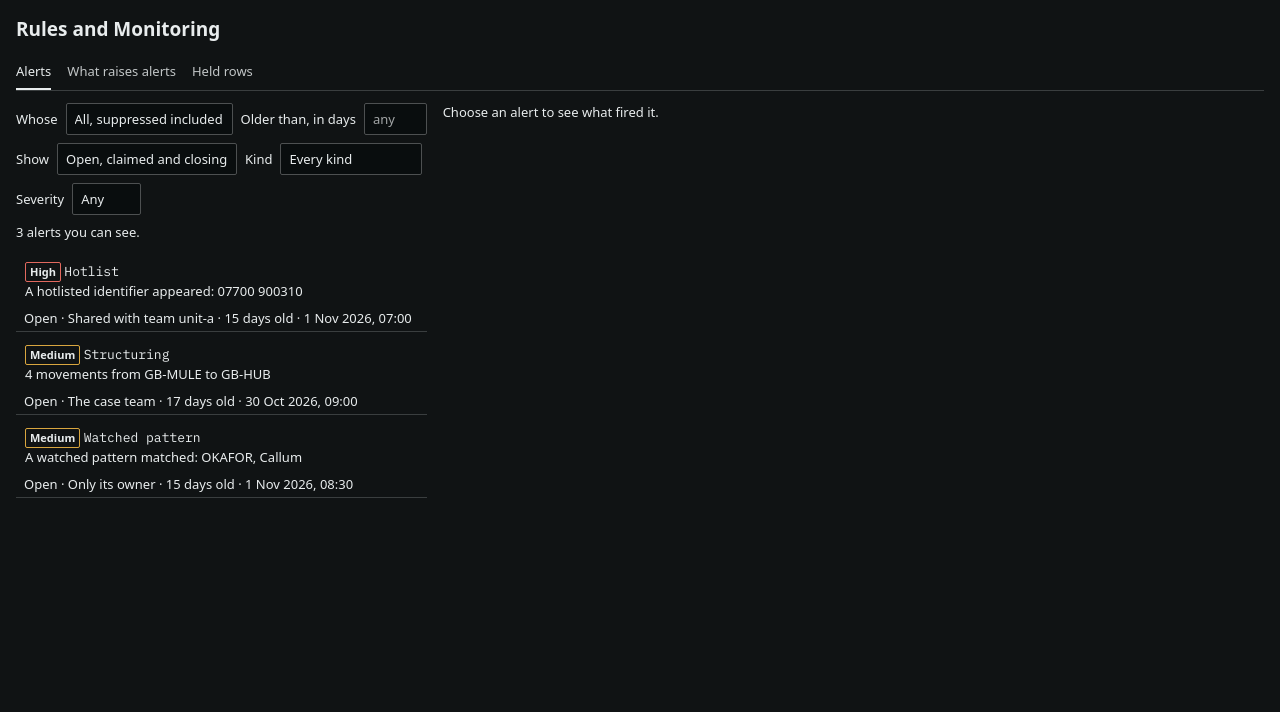
Scenario: Rules and Monitoring › gives a case alert to a member, by name, and a shared one only to be claimed
This screenshot has width=1280, height=712.
Click the button "Medium Structuring4 movements from GB-MULE to GB-HUB" at (221, 364), box 16,336 -> 427,392
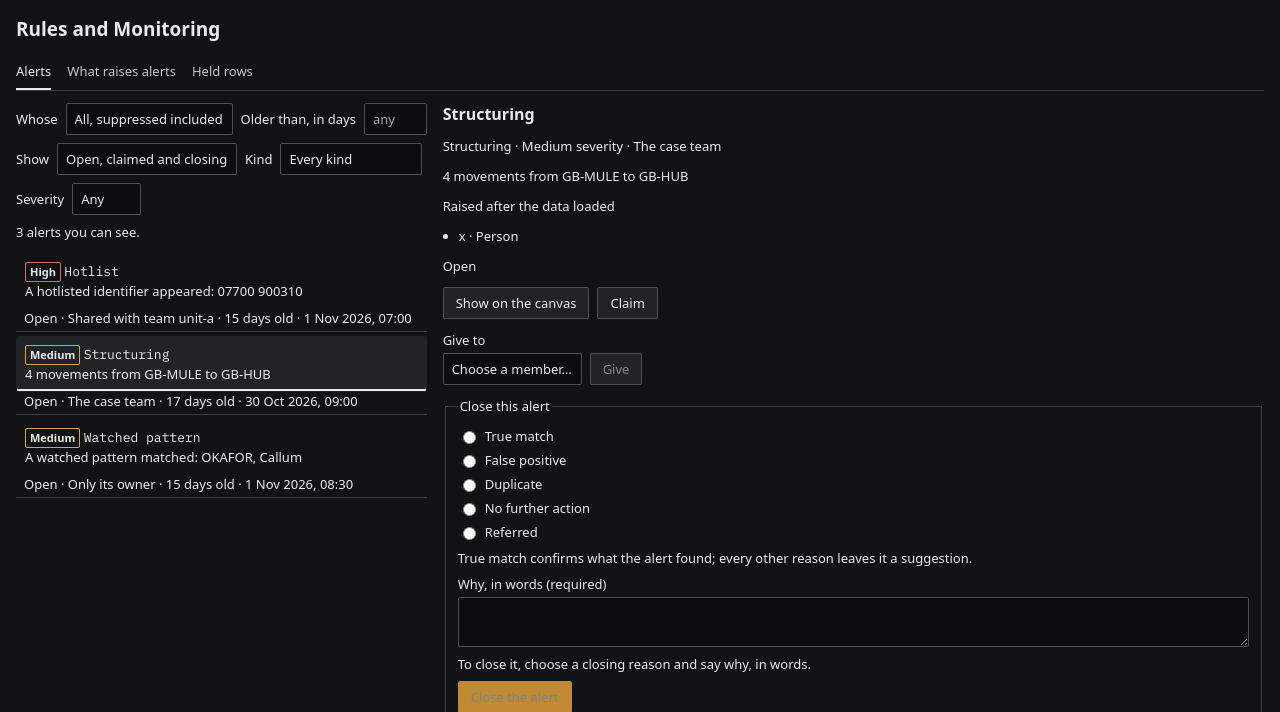
Select "Priya Shah" in the dropdown named "Give to (a member of the case)" at (512, 369), box 443,353 -> 582,385
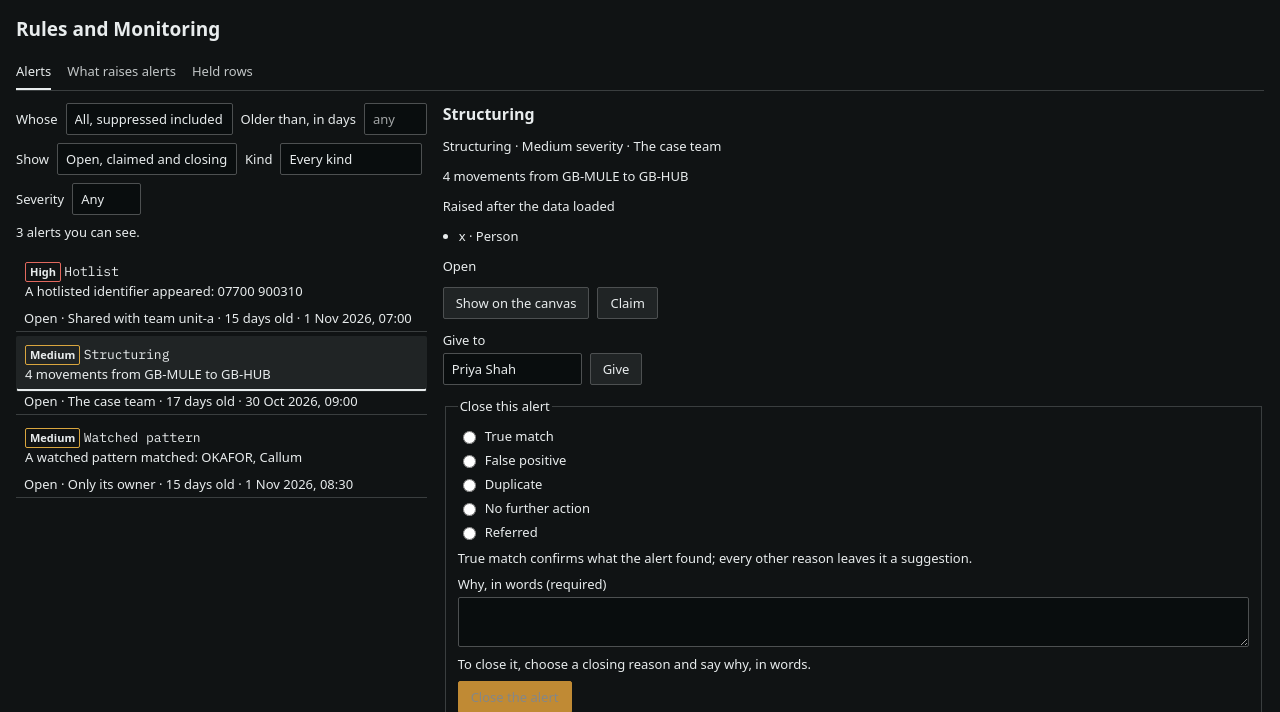
Click the button "Give" at (616, 369), box 590,353 -> 642,385
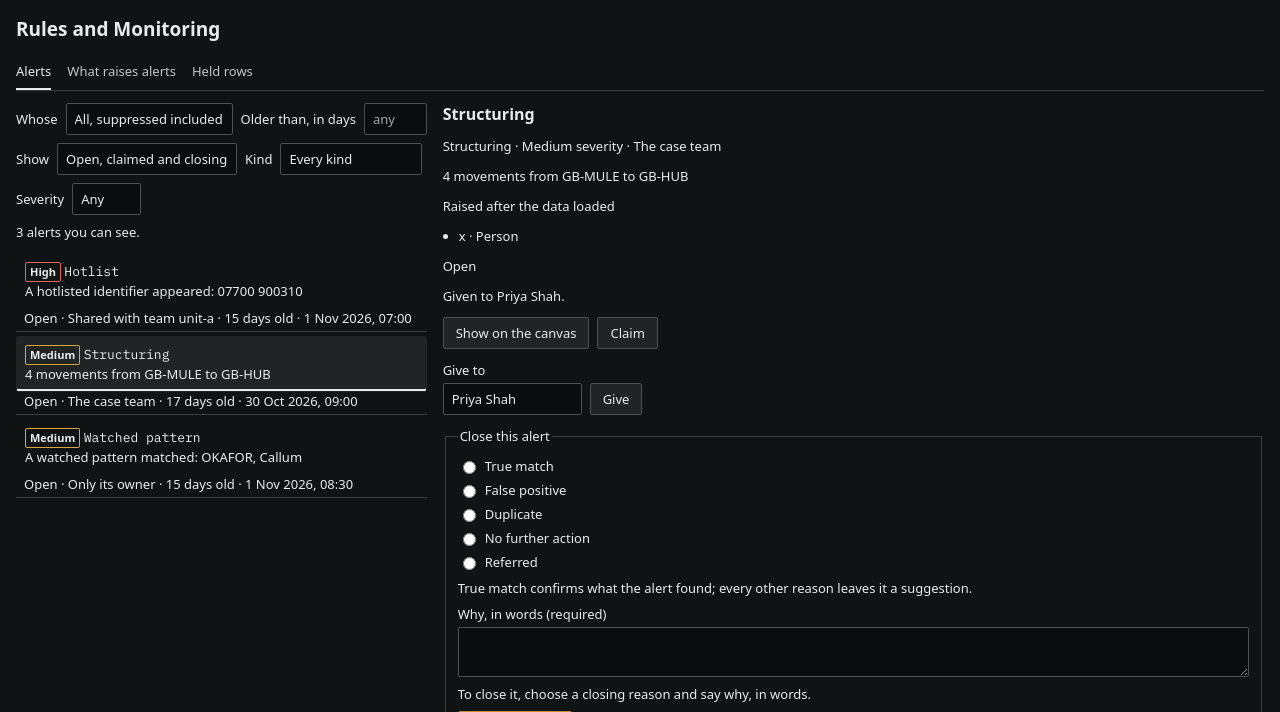
Check: the text "Given to Priya Shah." is shown, box 443,287 -> 565,305
Click the button "High HotlistA hotlisted identifier appeared: 07700 900310" at (221, 281), box 16,253 -> 427,309
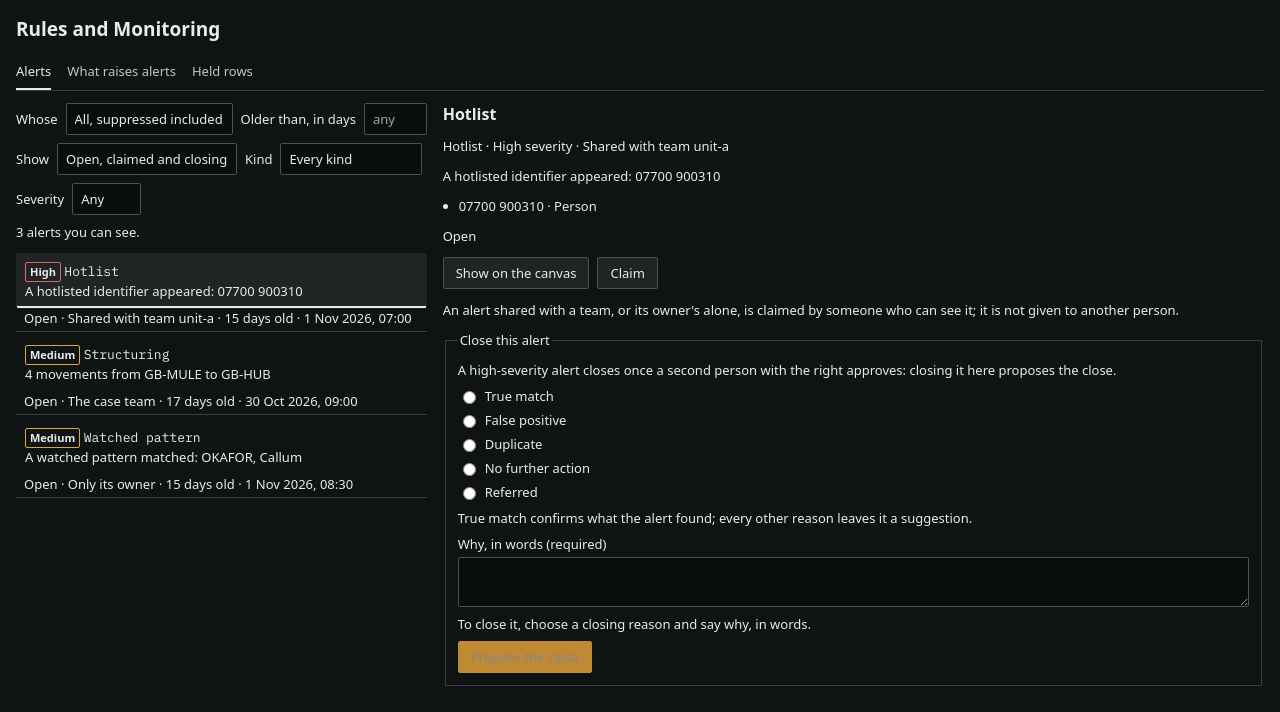
Check: the button "Claim" is shown, box 598,257 -> 658,289
Check: the text "claimed by someone who can see it" is shown, box 443,301 -> 1179,319
